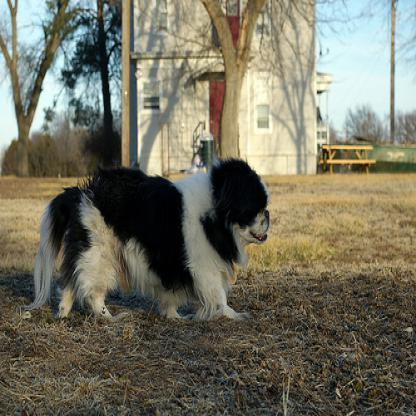dog: (34, 156, 273, 327)
